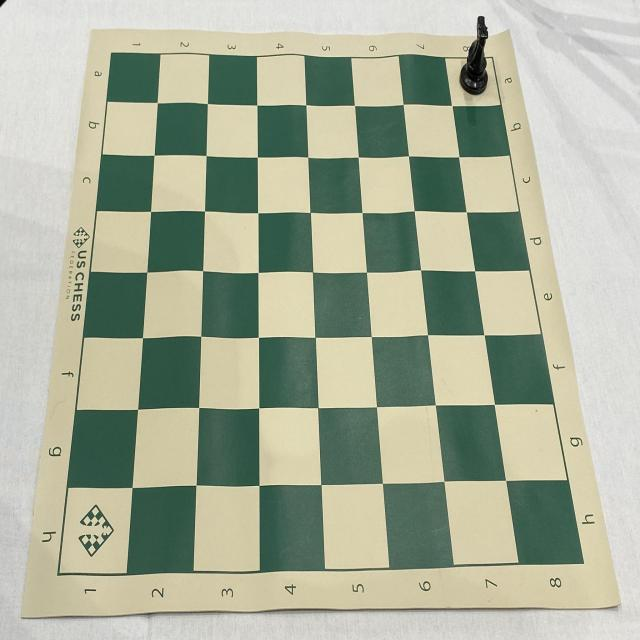black-knight: (458, 15, 490, 96)
